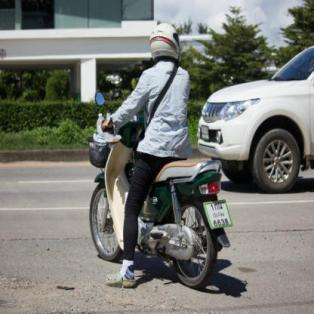Motocicleta: (84, 92, 232, 288)
